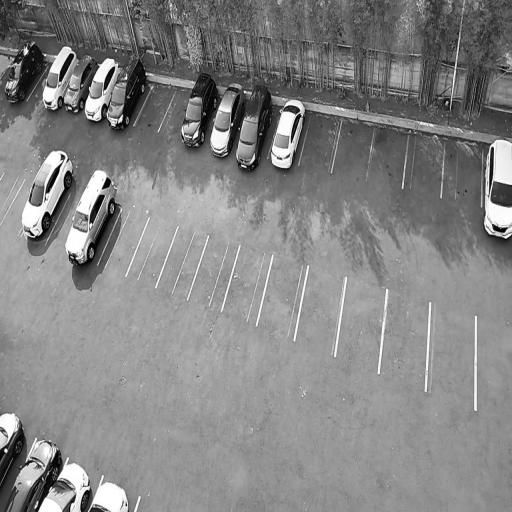Car: (60, 162, 124, 271), (17, 140, 79, 244), (1, 432, 66, 512), (228, 76, 280, 174), (202, 73, 251, 161), (101, 51, 151, 133), (263, 89, 310, 174), (176, 68, 223, 151), (481, 136, 512, 250), (38, 455, 97, 512), (1, 37, 49, 104), (0, 403, 33, 496), (38, 42, 81, 112), (80, 54, 123, 124), (61, 52, 101, 115), (86, 477, 138, 512)
Space Available: (426, 300, 476, 409), (335, 276, 388, 374), (379, 290, 430, 391), (294, 265, 346, 355), (257, 255, 308, 340), (221, 244, 272, 325), (187, 235, 240, 312), (156, 226, 209, 299), (127, 217, 178, 288), (98, 208, 150, 276), (442, 138, 483, 205), (403, 133, 445, 198), (299, 111, 342, 174), (366, 125, 409, 187), (332, 119, 374, 178), (134, 82, 177, 129), (46, 192, 80, 249), (0, 178, 33, 230), (158, 87, 191, 133), (0, 171, 25, 226), (27, 63, 53, 104)
